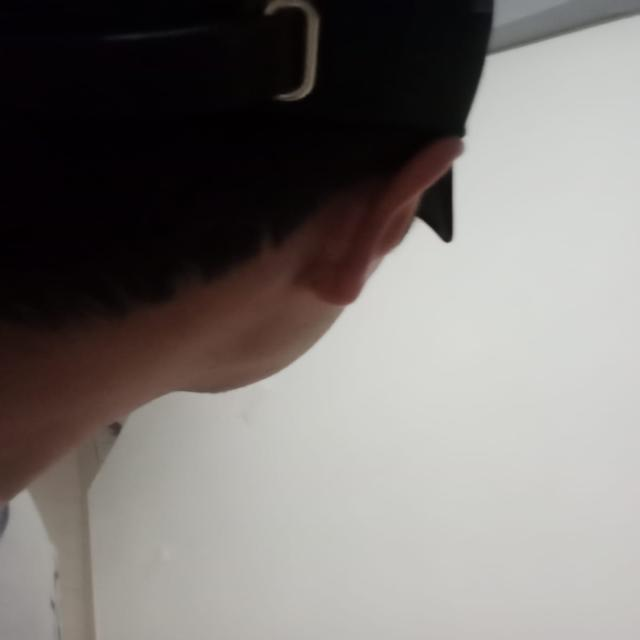ear: (348, 138, 462, 300)
